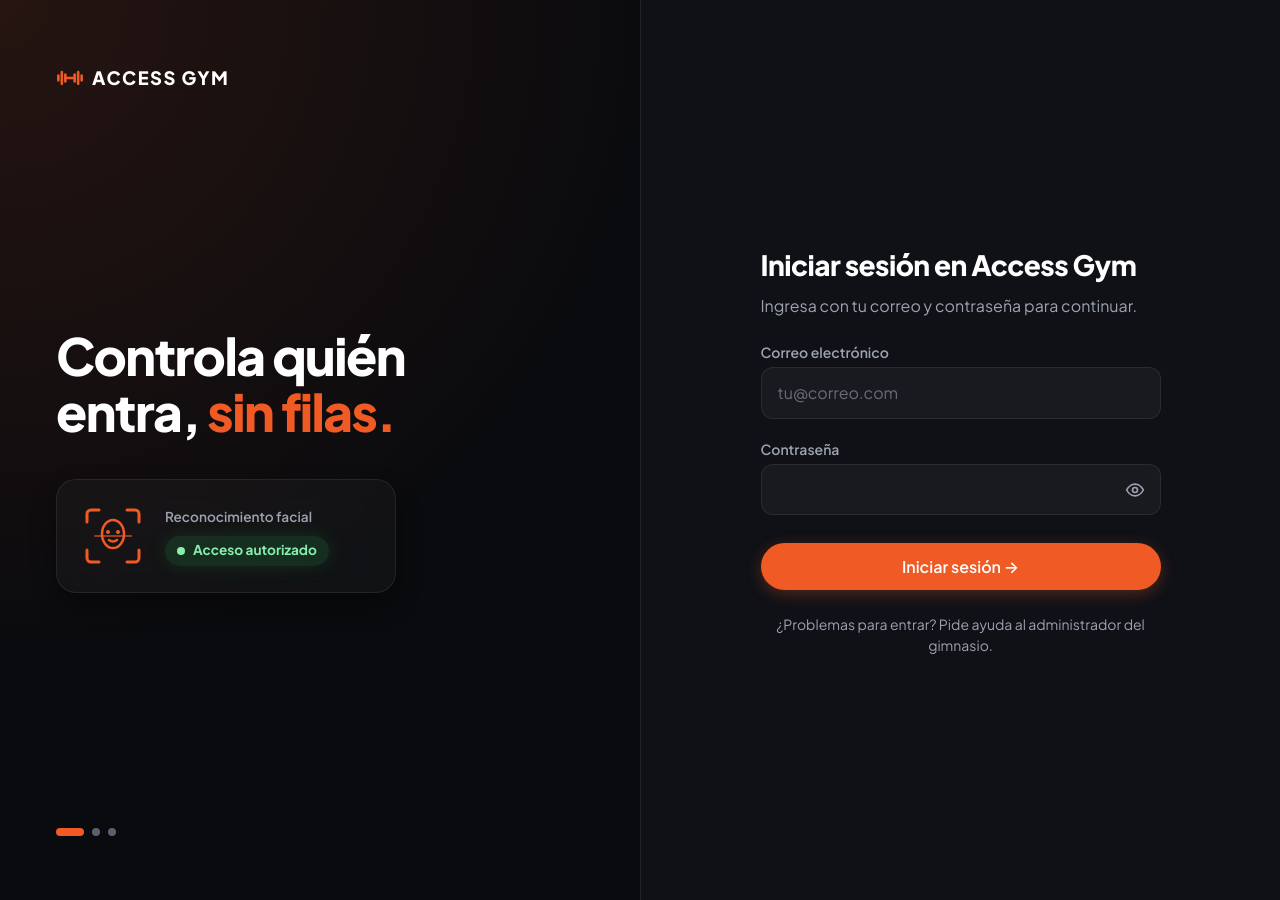
Scenario: pantalla de inicio de sesión › muestra_error_si_los_campos_estan_vacios
What coordinates should you click on to do the following:
click the button "Iniciar sesión →"
I would click on:
 (960, 567)
Its box is [760, 543, 1160, 590].
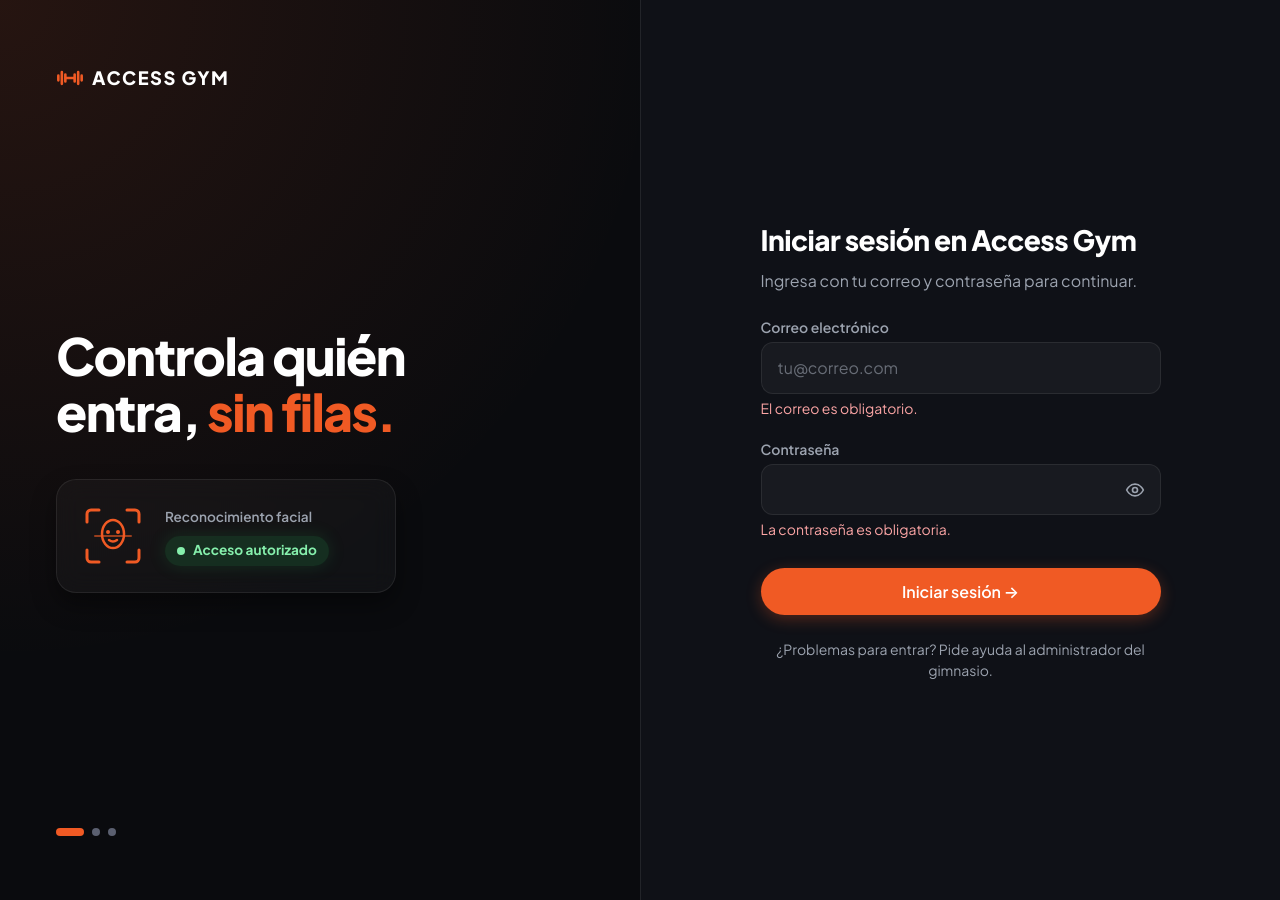
Expected: the text "El correo es obligatorio." is shown, [760, 399, 918, 417]
Expected: the text "La contraseña es obligatoria." is shown, [760, 520, 951, 538]
